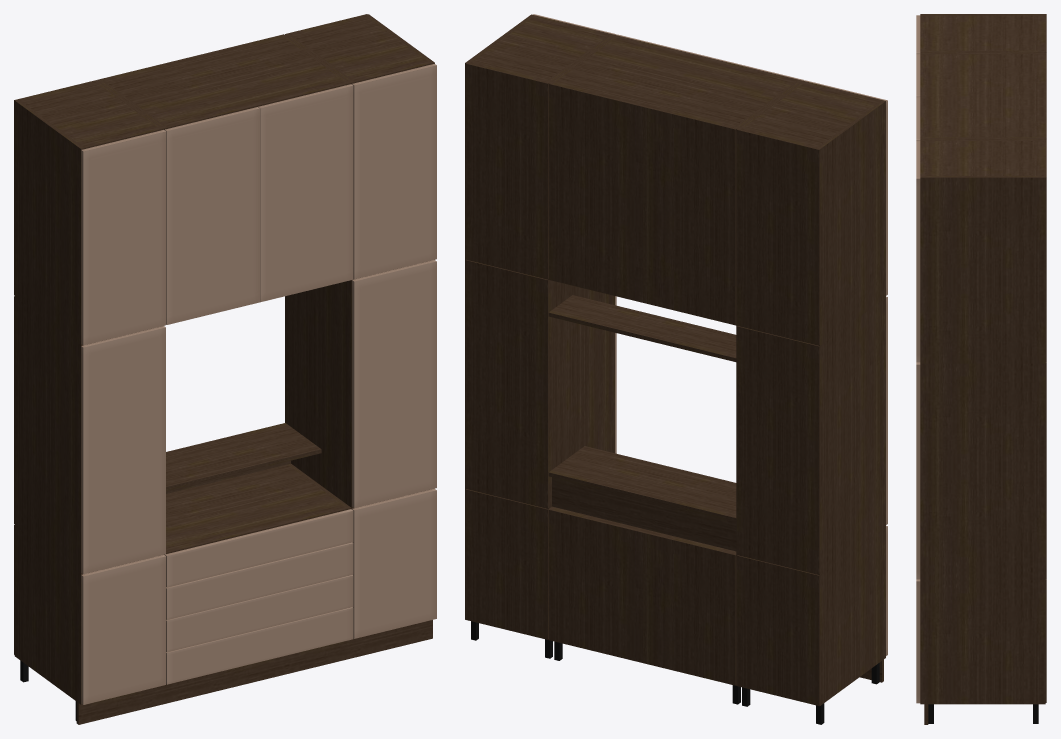
File: gardob_clothes.glb
3 views of the same model, side by side, from view 1: azimuth 30°, elevation 25°; view 2: azimuth 150°, elevation 25°; view 3: azimuth 270°, elevation 25° (orthographic). The views are drawn at different scales.
Parts seen in each view (by area): view 1: Object_9, Object_14, Object_16, Object_12, Object_11, Object_15, Object_13, Object_3, Object_10, Object_7, Object_5, Object_6 (+1 smaller); view 2: Object_9, Object_8; view 3: Object_9, Object_13, Object_14, Object_10, Object_8.
Boxes of the visible parts, x1,y1,x2,y2 form: Object_9: (14, 14, 434, 724); Object_14: (352, 260, 436, 508); Object_16: (81, 326, 165, 574); Object_12: (258, 84, 353, 302); Object_11: (165, 107, 259, 324); Object_15: (81, 130, 165, 345); Object_13: (352, 64, 436, 279); Object_3: (81, 555, 165, 704); Object_10: (352, 488, 436, 638); Object_7: (165, 509, 353, 587); Object_5: (166, 542, 353, 619); Object_6: (166, 575, 353, 652); Object_9: (465, 14, 885, 706); Object_8: (471, 621, 879, 724); Object_9: (920, 14, 1046, 724); Object_13: (916, 140, 920, 362); Object_14: (916, 362, 920, 579); Object_10: (916, 579, 920, 703); Object_8: (928, 704, 1038, 723).
Bounding box in the file's own units: 1.7 × 2.65 × 0.573.
15 materials, 15 textured.
